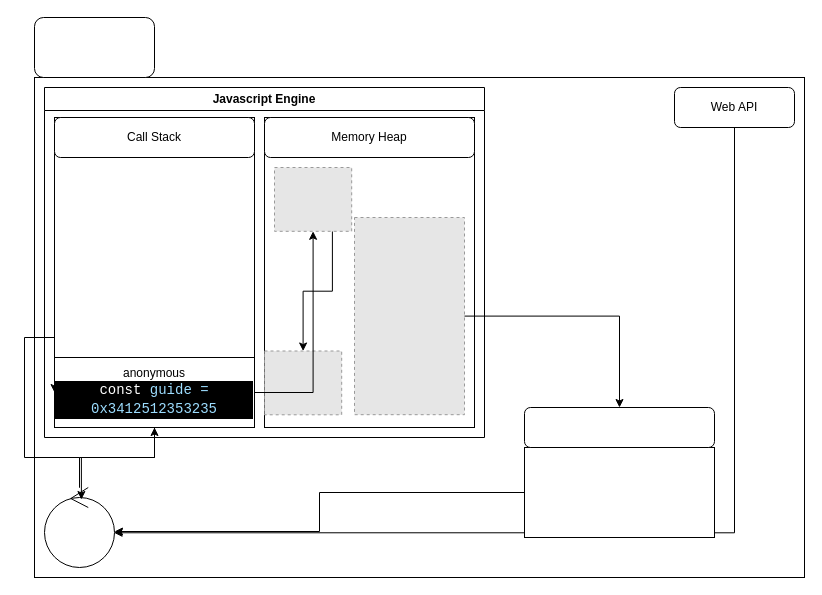
Some shapes in this 822 by 595 pixel diagram are drawn without their labels. Grey dashed boxes stand in for pictures. The shapes that lost their labels are listed below. From the top down, each one's box as (x1, y1, x2, y2) in pixels, then its label:
(34, 16, 154, 78): JS Runtime
(524, 406, 714, 448): Callback Queue
(44, 486, 114, 568): Event Loop
